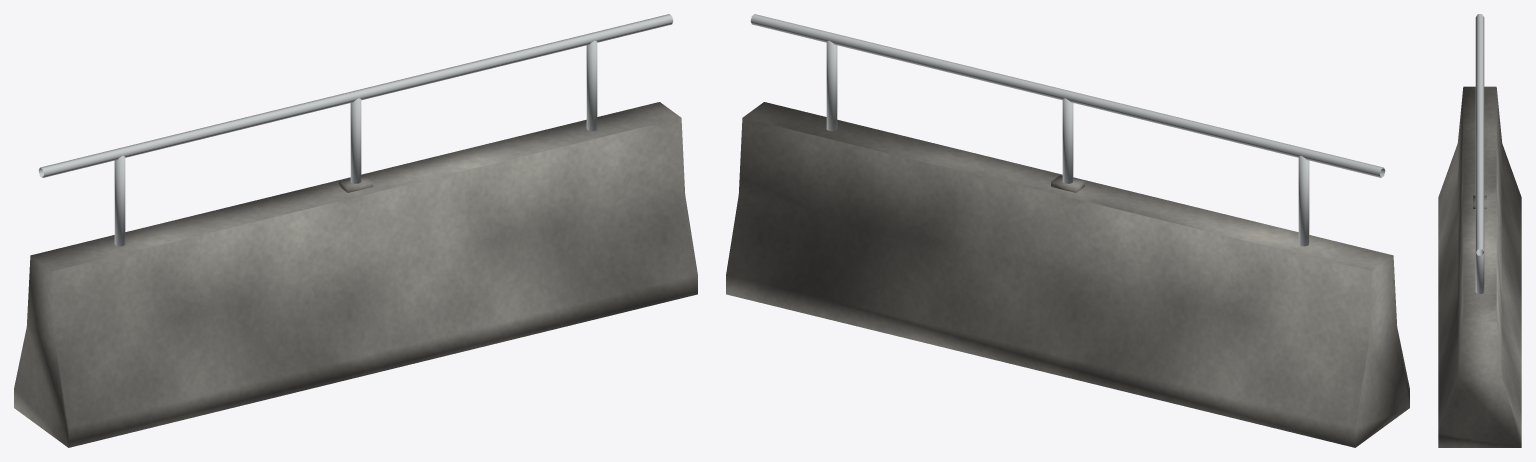
Rendered from concrete_4m_rail.glb.
3 views of the same model, side by side, from view 1: azimuth 30°, elevation 25°; view 2: azimuth 150°, elevation 25°; view 3: azimuth 270°, elevation 25° (orthographic). The views are drawn at different scales.
Visible parts, largest first — view 1: concrete_4m_rail; view 2: concrete_4m_rail; view 3: concrete_4m_rail.
Part boxes in pixels (box(x1,y1,x2,y2)): concrete_4m_rail: box(14, 14, 697, 447); concrete_4m_rail: box(726, 14, 1409, 447); concrete_4m_rail: box(1438, 14, 1521, 447).
Bounding box in the file's own units: 4 × 1.58 × 0.6.
2 materials, 1 textured.
